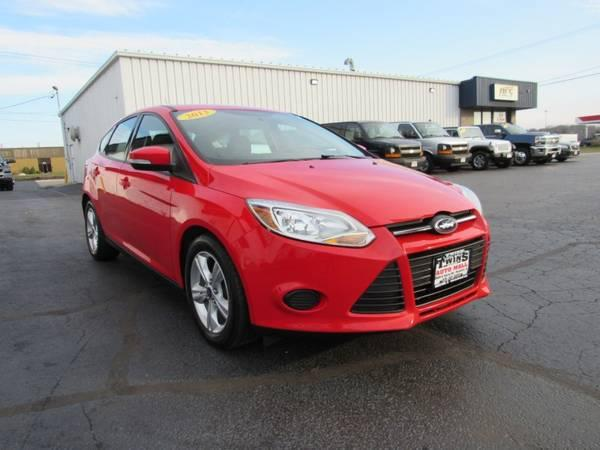Front_Bumper: (226, 208, 485, 331)
Front_Fender: (169, 182, 262, 289)
Front_Right_Door: (118, 164, 175, 283)
Front_Right_Window: (123, 115, 192, 182)
Front_Windshield: (164, 107, 366, 164)
Grille: (337, 233, 492, 330)
Hood: (201, 154, 480, 224)
Rear_Right_Door: (82, 153, 123, 250)
Rear_Right_Window: (98, 115, 140, 161)
Right_Headlight: (245, 199, 376, 249)
Roof: (121, 103, 261, 183)
Wheel: (181, 234, 248, 346), (84, 204, 102, 257)
